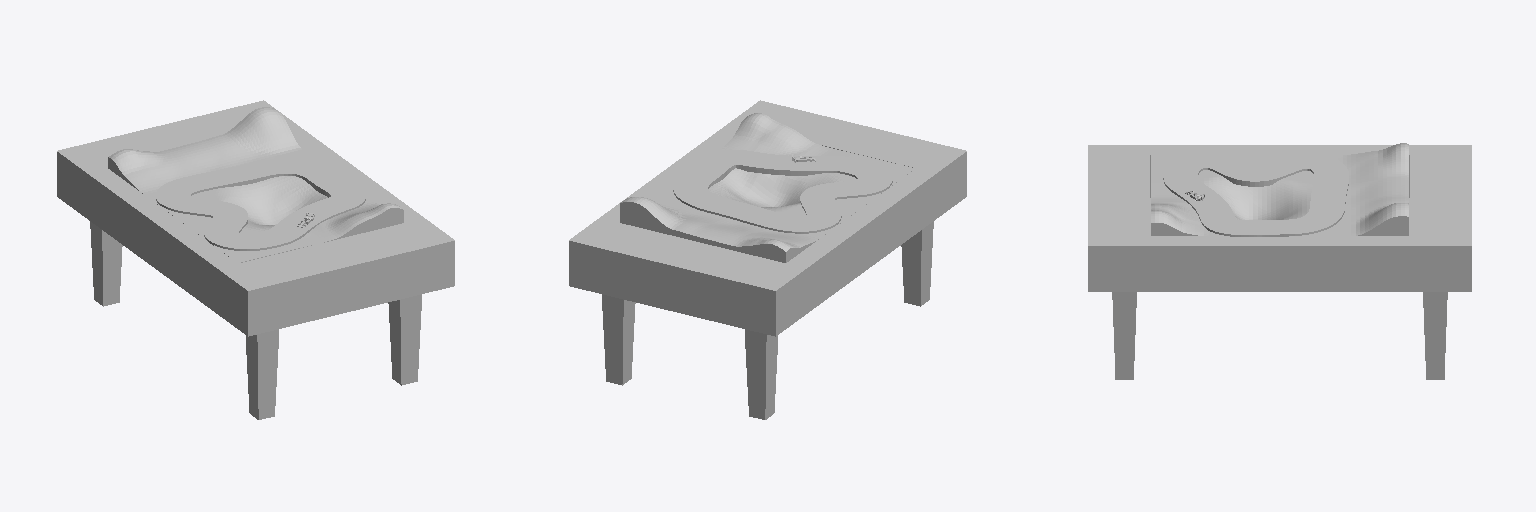
Rendered from NewestTisch46.obj.
3 views of the same model, side by side, from view 1: azimuth 30°, elevation 25°; view 2: azimuth 150°, elevation 25°; view 3: azimuth 270°, elevation 25° (orthographic).
Visible parts, largest first — view 1: Tischplatte_wood_table_001, Landschaft_aerial_grass_rock, off, Bein1_wood_table_001, Bein4_wood_table_001.003, Bein3_wood_table_001.002; view 2: Tischplatte_wood_table_001, Landschaft_aerial_grass_rock, off, Bein2_wood_table_001.001, Bein3_wood_table_001.002, Bein4_wood_table_001.003; view 3: Tischplatte_wood_table_001, Landschaft_aerial_grass_rock, off, Bein1_wood_table_001, Bein2_wood_table_001.001.
Boxes of the visible parts, <box> form: Tischplatte_wood_table_001: <box>57,100,454,336</box>; Landschaft_aerial_grass_rock: <box>108,107,403,262</box>; off: <box>156,159,365,250</box>; Bein1_wood_table_001: <box>388,294,421,385</box>; Bein4_wood_table_001.003: <box>246,329,278,419</box>; Bein3_wood_table_001.002: <box>90,221,122,306</box>; Tischplatte_wood_table_001: <box>569,100,966,336</box>; Landschaft_aerial_grass_rock: <box>620,113,915,262</box>; off: <box>673,150,892,233</box>; Bein2_wood_table_001.001: <box>602,294,635,385</box>; Bein3_wood_table_001.002: <box>745,329,777,419</box>; Bein4_wood_table_001.003: <box>901,221,933,306</box>; Tischplatte_wood_table_001: <box>1088,145,1471,291</box>; Landschaft_aerial_grass_rock: <box>1151,143,1408,235</box>; off: <box>1163,153,1348,236</box>; Bein1_wood_table_001: <box>1112,292,1136,379</box>; Bein2_wood_table_001.001: <box>1423,292,1447,379</box>.
Bounding box in the file's own units: 5 × 3.91 × 8.